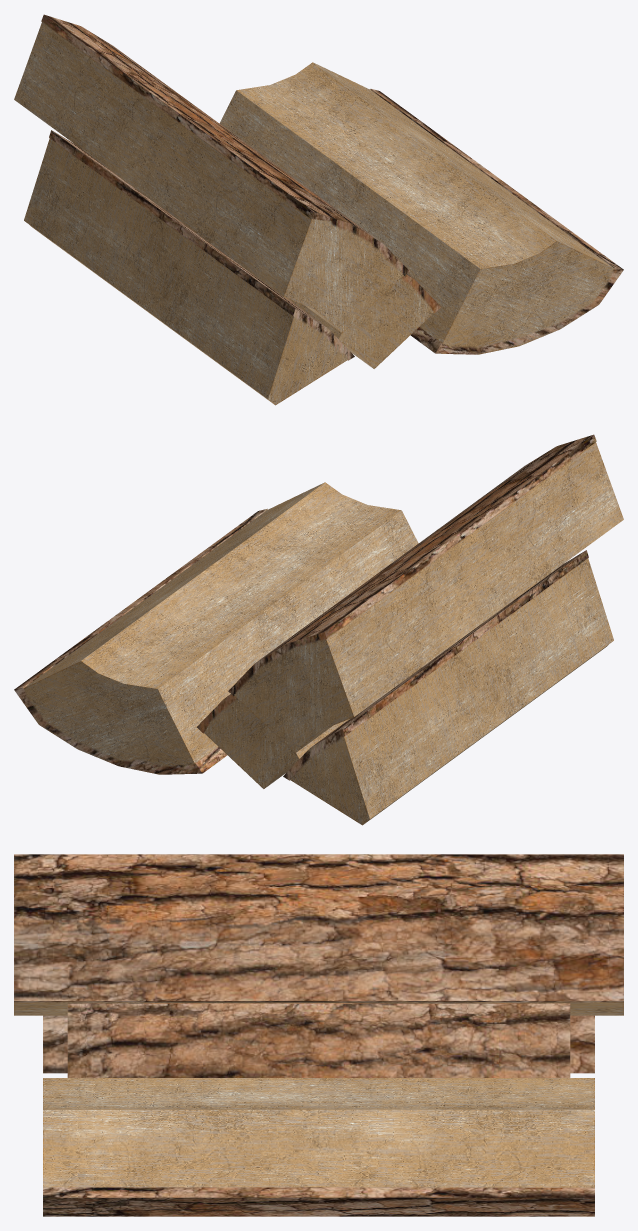
File: low_poly_chopped_logs__164_tris__game_ready.glb
3 renders of one model, top to bottom at view 1: azimuth 30°, elevation 25°; view 2: azimuth 150°, elevation 25°; view 3: azimuth 270°, elevation 25°, orthographic. The views are drawn at different scales.
Parts seen in each view (by area): view 1: log.131, log.133, log.134, log.132; view 2: log.131, log.133, log.134, log.132; view 3: log.133, log.131, log.132, log.134.
Part boxes in pixels (left/top/right/bottom): log.131: left=219, top=62, right=623, bottom=354; log.133: left=14, top=14, right=409, bottom=333; log.134: left=24, top=130, right=354, bottom=405; log.132: left=288, top=274, right=441, bottom=368; log.131: left=14, top=482, right=418, bottom=774; log.133: left=228, top=434, right=623, bottom=753; log.134: left=283, top=550, right=613, bottom=825; log.132: left=196, top=694, right=349, bottom=788; log.133: left=14, top=854, right=623, bottom=1015; log.131: left=43, top=1078, right=594, bottom=1216; log.132: left=67, top=1003, right=570, bottom=1077; log.134: left=43, top=1015, right=594, bottom=1073.
Size of the model in its own units: 1.28 by 0.6779 by 1.68.
Materials: 1 (1 with a texture image).
